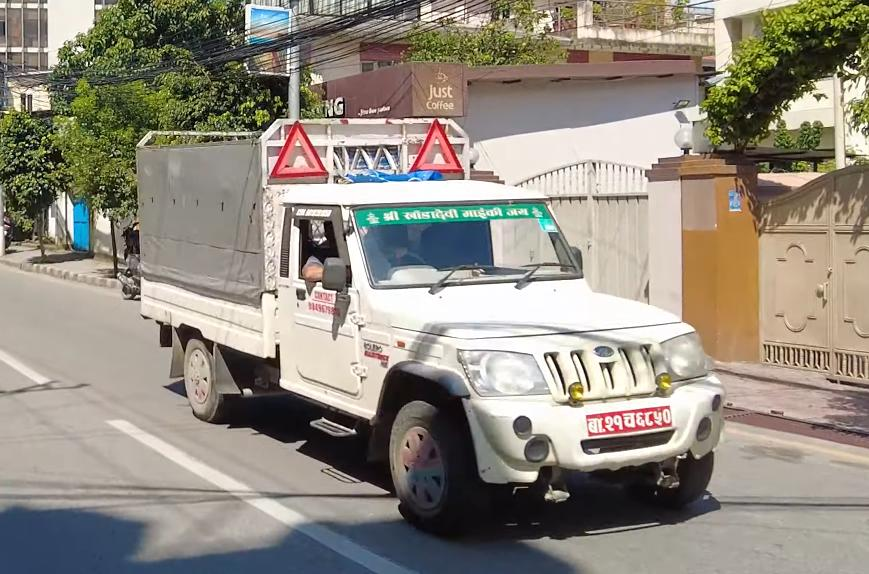transport_vehicle: (120, 108, 729, 538)
